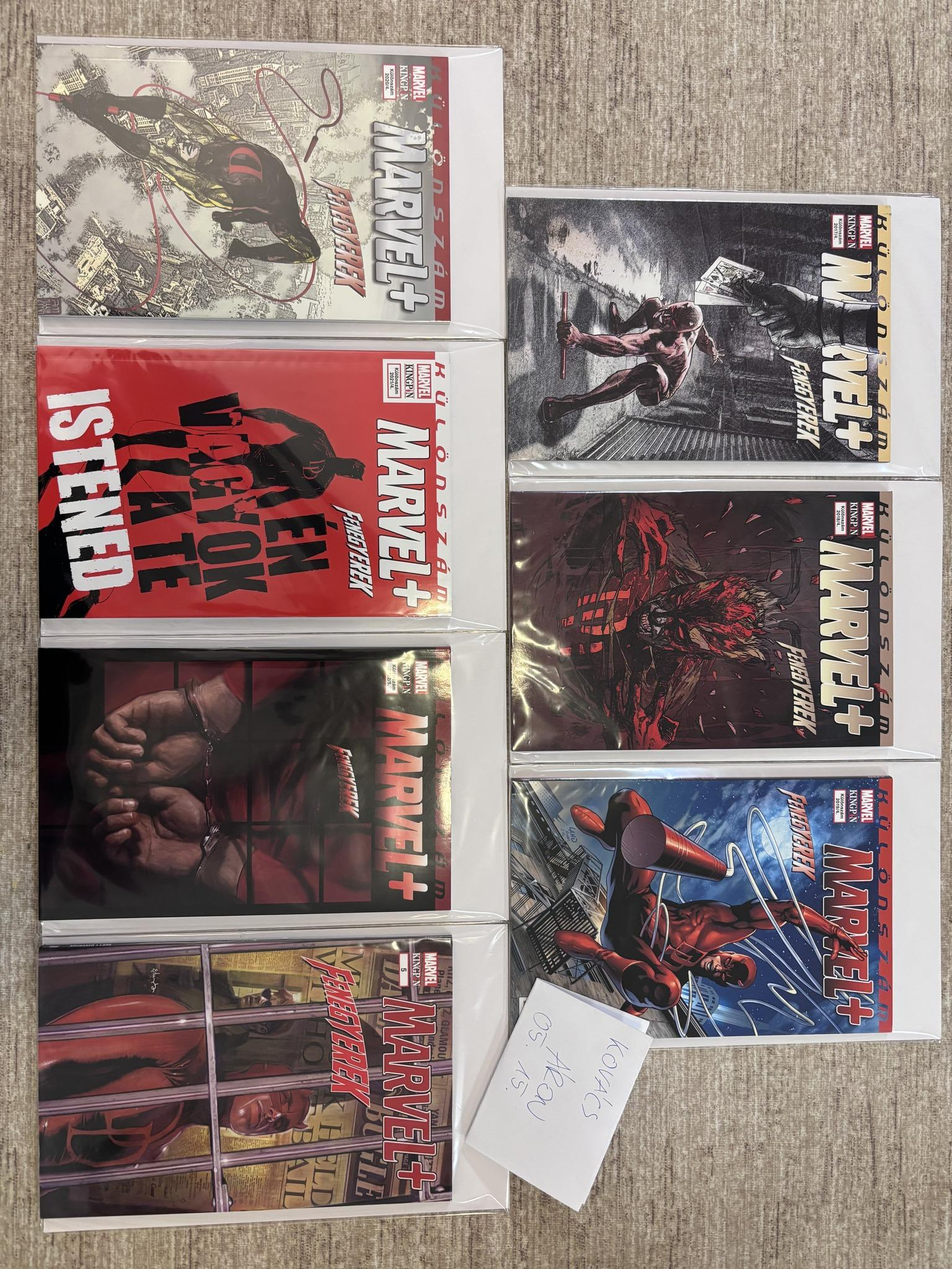comic: (30, 35, 503, 332), (37, 937, 455, 1219), (37, 647, 453, 924), (36, 344, 453, 620), (507, 770, 897, 1044), (507, 191, 892, 462), (508, 484, 896, 752)
